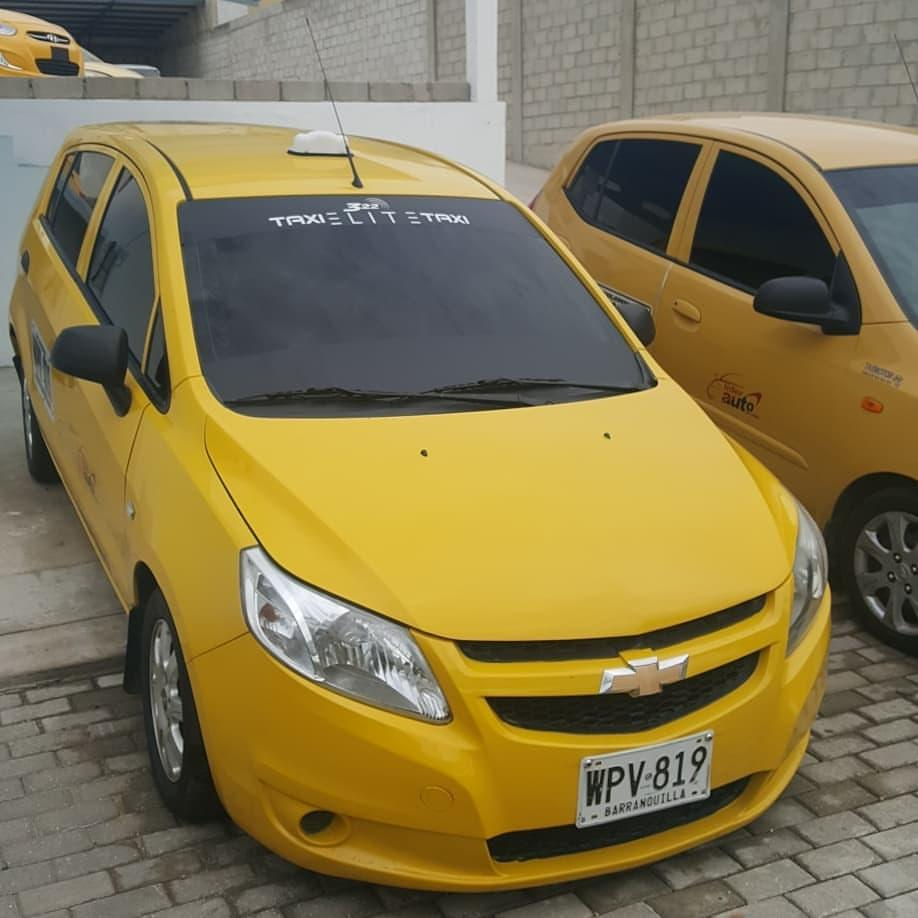taxi: (3, 73, 762, 918)
